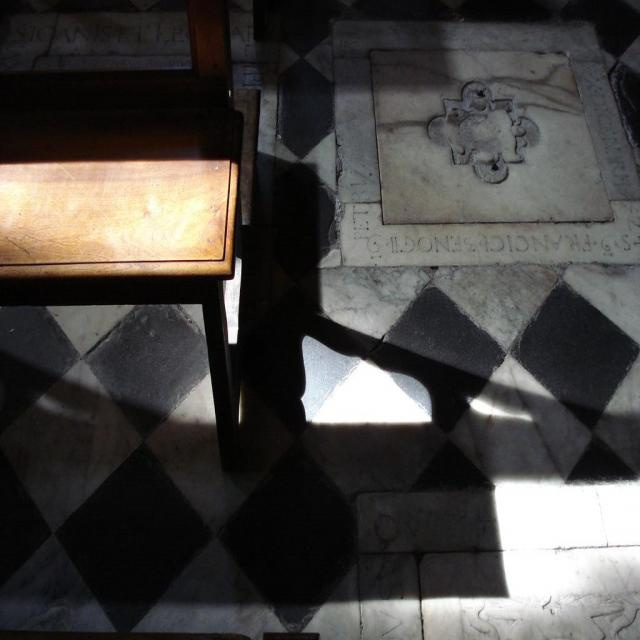Table: (22, 176, 288, 492)
